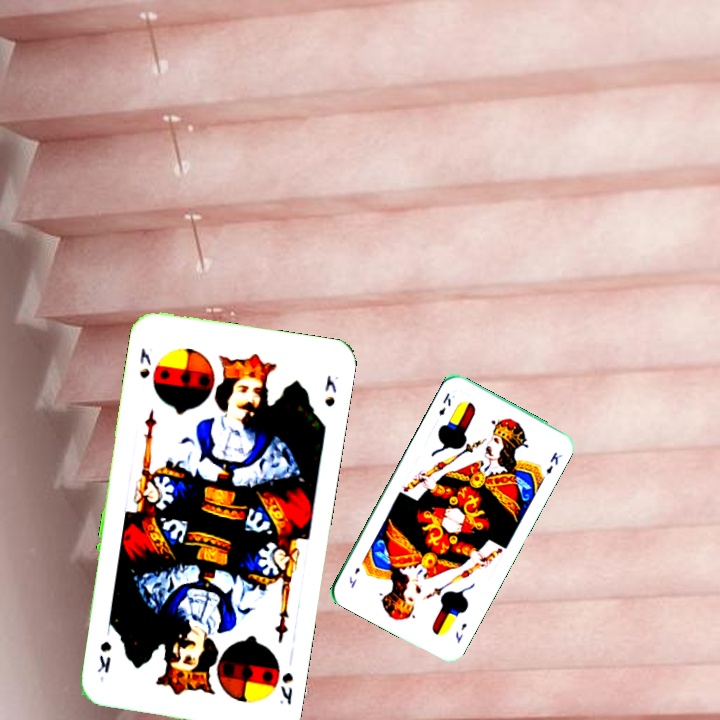EK: (434, 388, 454, 418), (451, 619, 470, 646)
SK: (275, 668, 296, 707), (135, 344, 154, 381)
